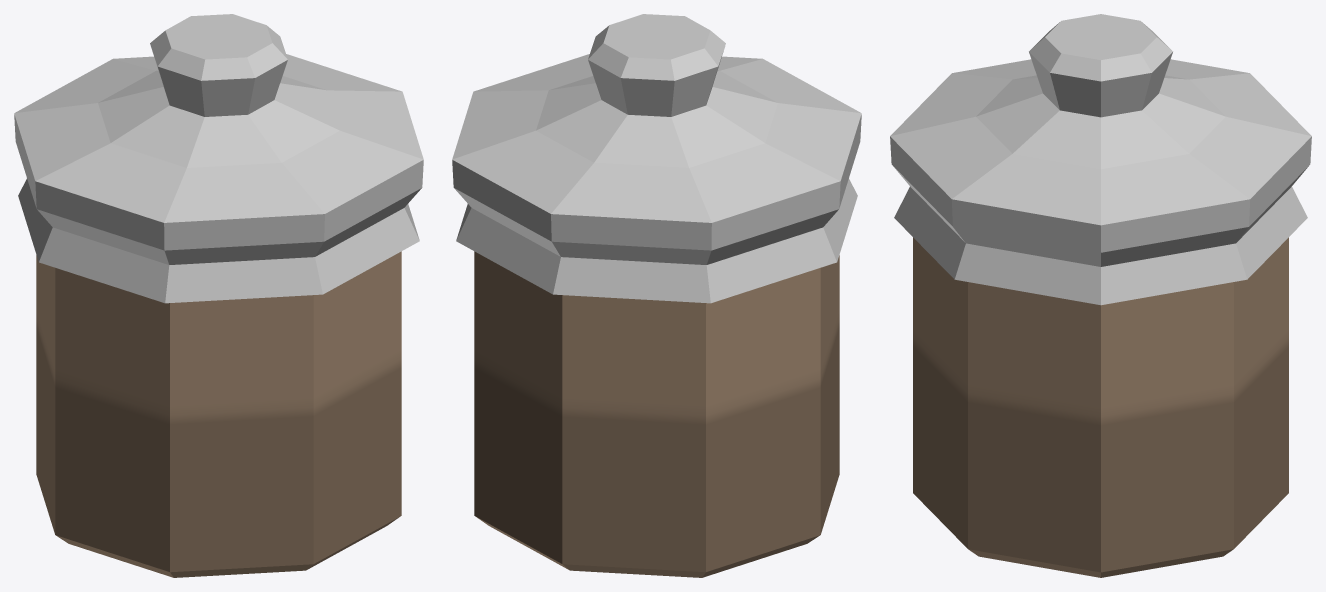
Rendered from SM_Prop_Organ_Jar_02.fbx.
The picture shows the model from 3 angles, left to right: view 1: azimuth 30°, elevation 25°; view 2: azimuth 150°, elevation 25°; view 3: azimuth 270°, elevation 25°; orthographic projection.
Visible parts, largest first — view 1: SM_Prop_Organ_Jar_02; view 2: SM_Prop_Organ_Jar_02; view 3: SM_Prop_Organ_Jar_02.
Boxes of the visible parts, box(x1,y1,x2,y2) form: SM_Prop_Organ_Jar_02: box(14, 14, 423, 577); SM_Prop_Organ_Jar_02: box(452, 14, 861, 577); SM_Prop_Organ_Jar_02: box(890, 14, 1311, 577).
Bounding box in the file's own units: 33.4 × 40.86 × 33.4.
